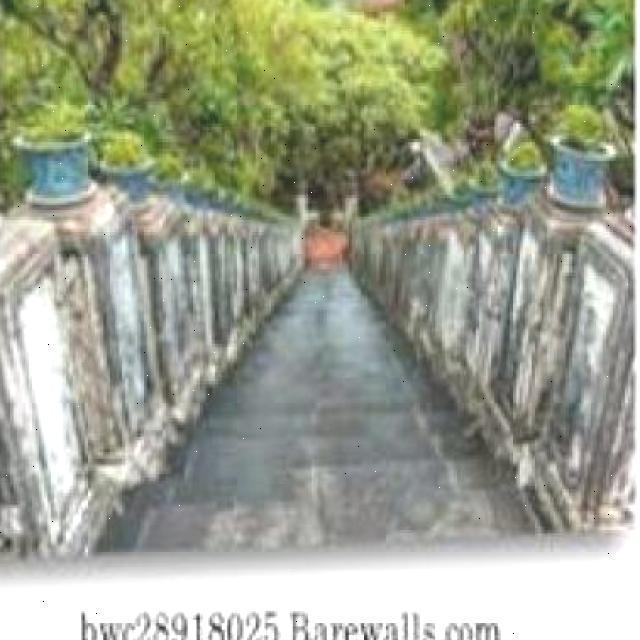stair: (95, 369, 506, 537)
